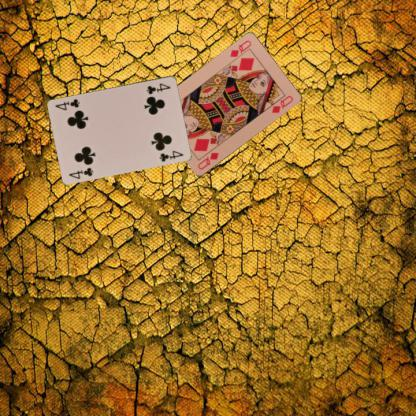4c: (66, 165, 95, 180), (144, 80, 171, 96)
Qd: (227, 38, 253, 64), (195, 150, 220, 172)
